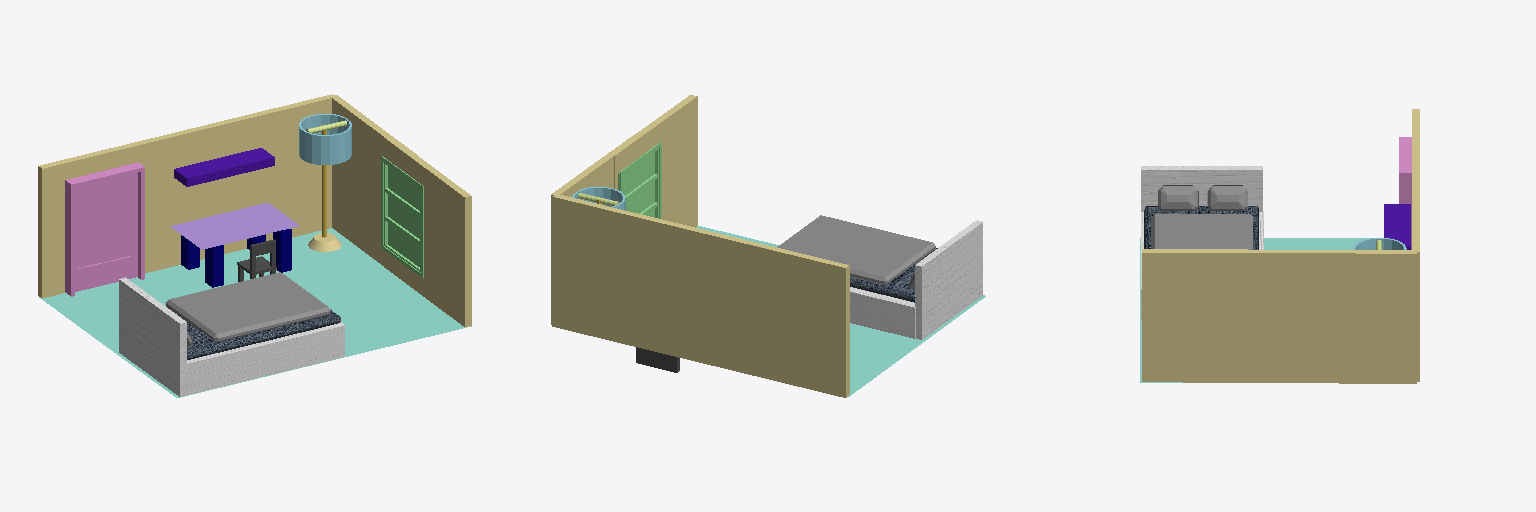
The picture shows the model from 3 angles: view 1: azimuth 30°, elevation 25°; view 2: azimuth 150°, elevation 25°; view 3: azimuth 270°, elevation 25°; orthographic projection.
Visible parts, largest first — view 1: Plane001, Box002, Box001, PivotDoor001, Box009, Box012, Box003, Box010, Box011, ProjectedWindow001, Plane002, Tube001 (+4 smaller); view 2: Box002, Box001, Box012, Box009, Box011, Plane001, Box010, ProjectedWindow001, Box003, Box015, Box021, Tube001; view 3: Box003, Box009, Box012, Box011, Plane001, Box008, Box014, Box013, Box015, Box001, PivotDoor001, Box002.
Part boxes in pixels (x1,y1,x2,y2): Plane001: (39,228,471,397); Box002: (38,128,207,298); Box001: (191,94,334,259); PivotDoor001: (65,162,144,296); Box009: (384,136,471,326); Box012: (166,272,330,341); Box003: (332,95,416,265); Box010: (187,322,344,394); Box011: (119,277,186,396); ProjectedWindow001: (381,156,423,277); Plane002: (170,203,299,249); Tube001: (299,114,351,164); Box002: (681,225,849,397); Box001: (552,194,696,360); Box012: (777,215,935,284); Box009: (610,95,697,227); Box011: (915,220,982,339); Plane001: (696,226,985,396); Box010: (850,287,915,338); ProjectedWindow001: (618,142,661,218); Box003: (551,135,638,324); Box015: (850,248,937,302); Box021: (636,347,679,372); Tube001: (572,187,625,210); Box003: (1253,250,1416,383); Box009: (1142,249,1298,382); Box012: (1151,214,1252,249); Box011: (1141,166,1262,211); Plane001: (1140,238,1368,382); Box008: (1384,204,1410,249); Box014: (1207,185,1247,210); Box013: (1158,185,1198,210); Box015: (1144,206,1258,249); Box001: (1412,183,1419,381); PivotDoor001: (1399,137,1411,249); Box002: (1412,109,1419,189).
Bounding box in the file's own units: 168 × 80.85 × 137.
14 materials, 2 textured.